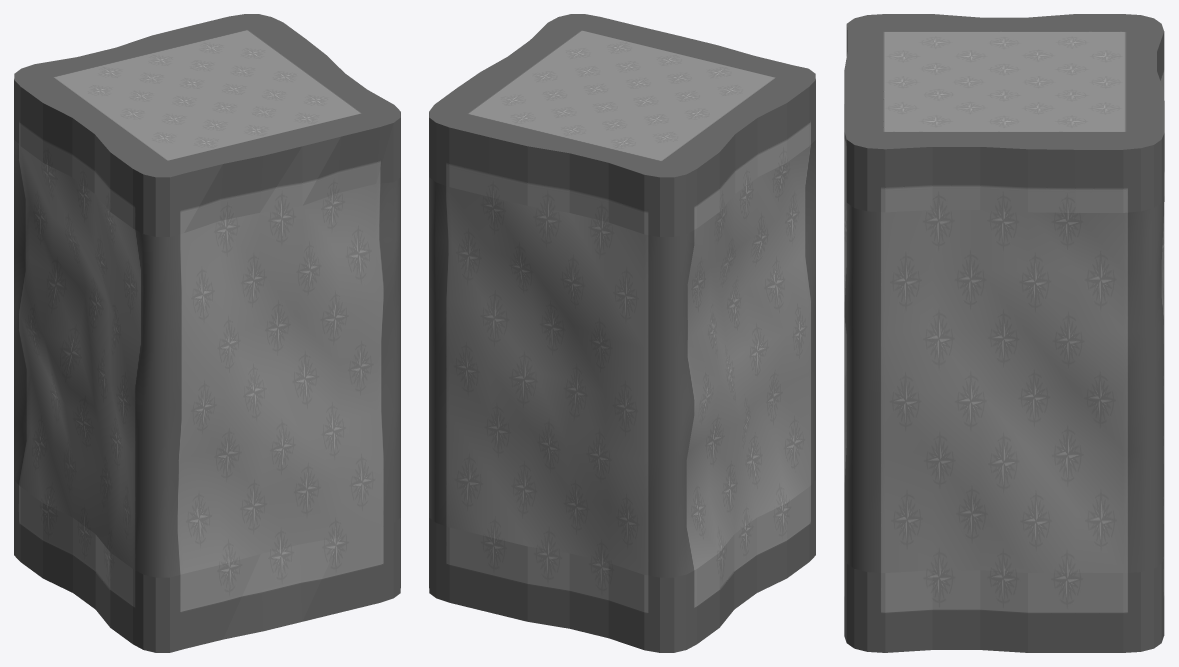
Rendered from StackableBlock.FBX.
The picture shows the model from 3 angles, left to right: view 1: azimuth 30°, elevation 25°; view 2: azimuth 150°, elevation 25°; view 3: azimuth 270°, elevation 25°; orthographic projection. The views are drawn at different scales.
Parts seen in each view (by area): view 1: Box001; view 2: Box001; view 3: Box001.
Part boxes in pixels (x1,y1,x2,y2): Box001: (14,14,400,652); Box001: (429,14,815,652); Box001: (844,14,1164,652).
Bounding box in the file's own units: 39.54 × 68.37 × 39.44.
1 material, 1 textured.
